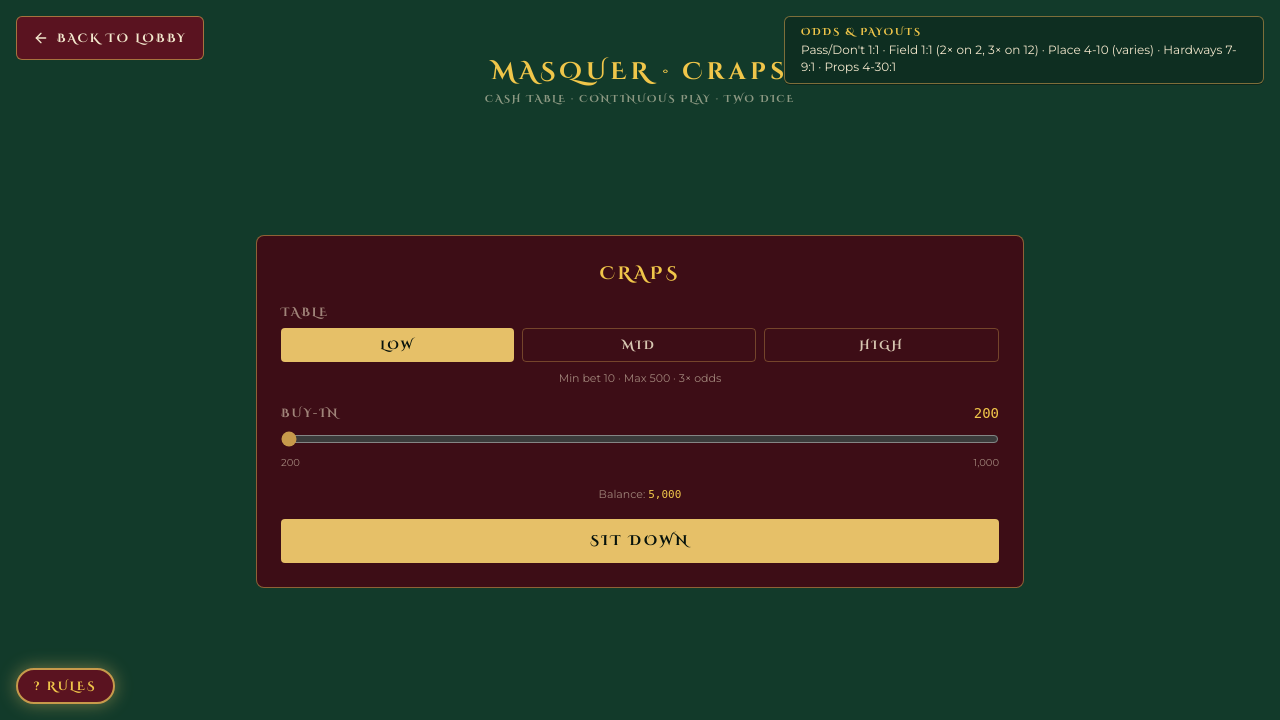
CrapsPage › opens + closes the rules modal via RulesButton
Click the button "? RULES": (65, 686) [16,668,115,704]
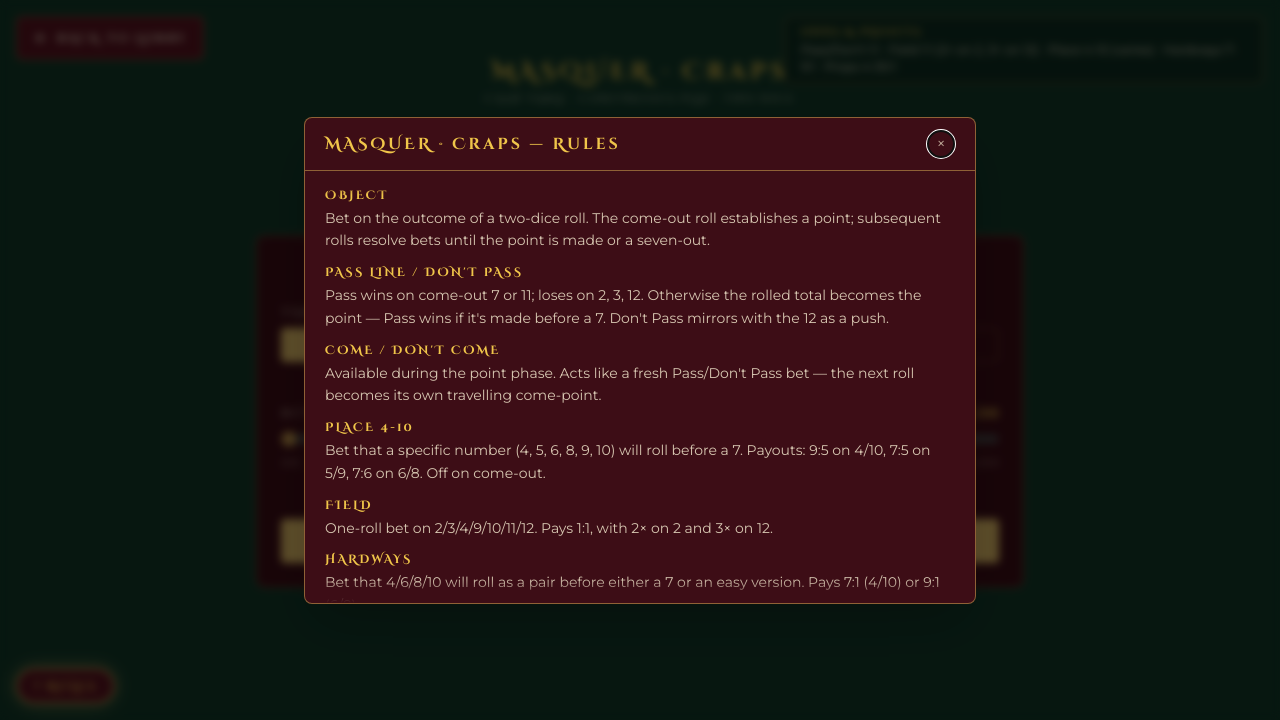
Now the heading "OBJECT" is shown, box [325,186,388,202]
Now the heading "PASS LINE / DON'T PASS" is shown, box [325,264,523,280]
